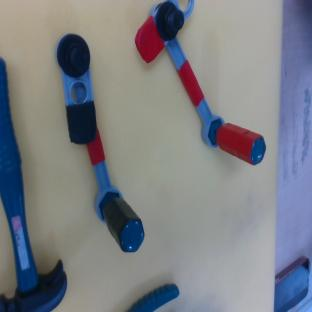non_pass: (40, 29, 149, 259)
